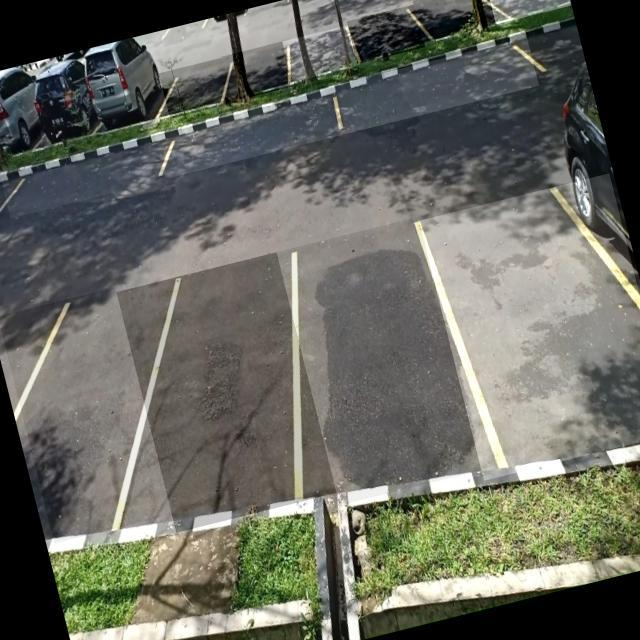empty: (419, 172, 640, 480), (272, 214, 490, 506), (116, 252, 336, 532), (0, 285, 178, 543), (328, 36, 538, 134), (152, 85, 344, 178), (0, 131, 166, 217), (158, 56, 238, 118), (346, 4, 426, 64), (282, 24, 358, 82), (222, 41, 293, 101), (412, 0, 497, 41), (483, 0, 571, 23)
occupied: (77, 42, 172, 135), (26, 64, 100, 150)
